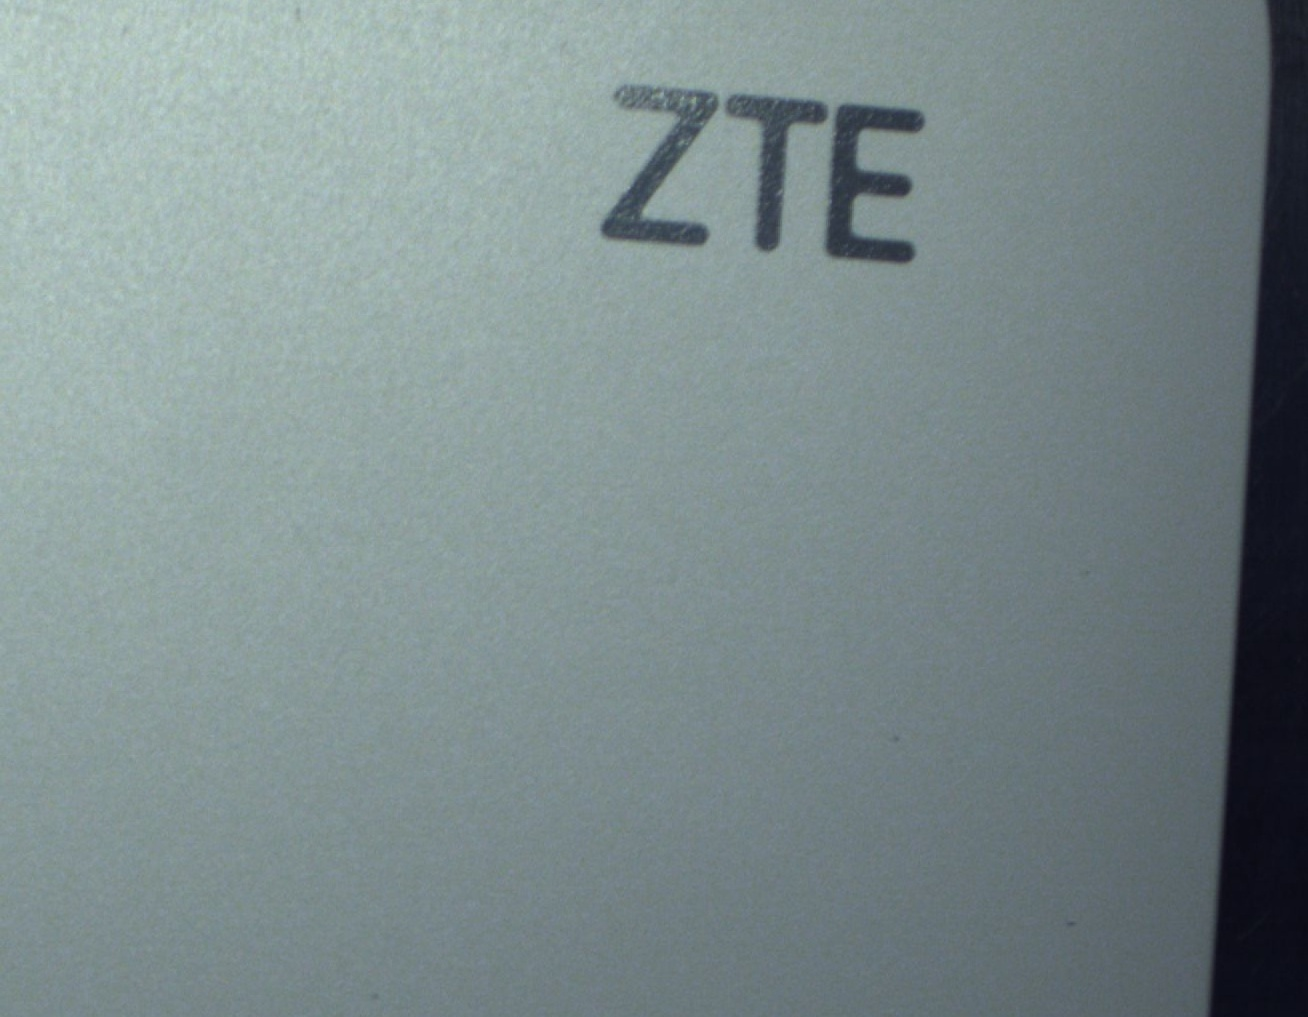AN_ZTE: (548, 61, 953, 282)
